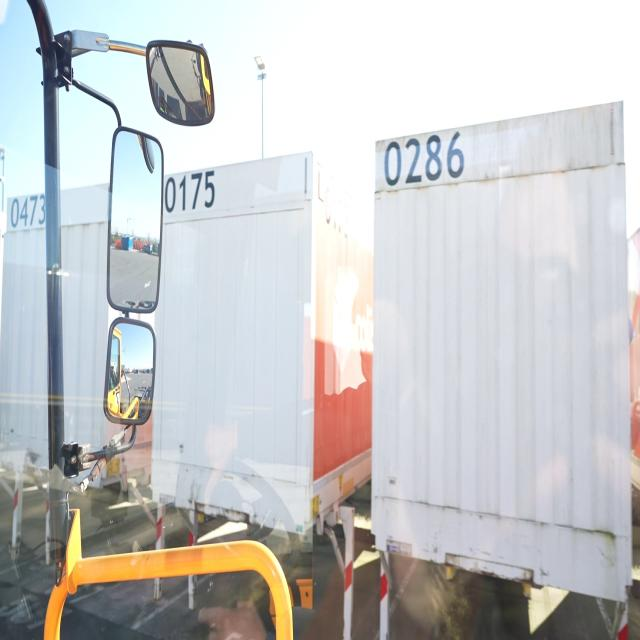Code: (382, 124, 466, 185), (164, 166, 217, 216), (8, 191, 50, 231)
